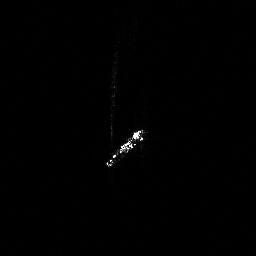ship: (101, 125, 150, 170)
